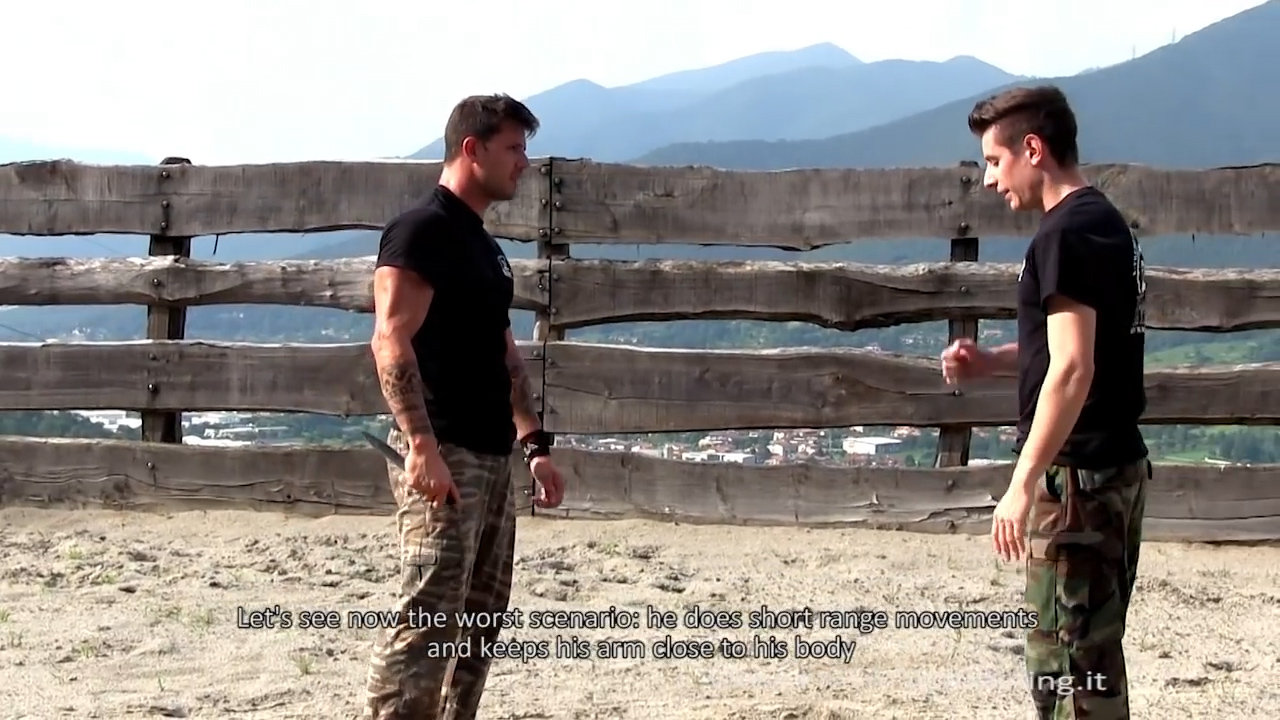knife: (353, 427, 463, 516)
